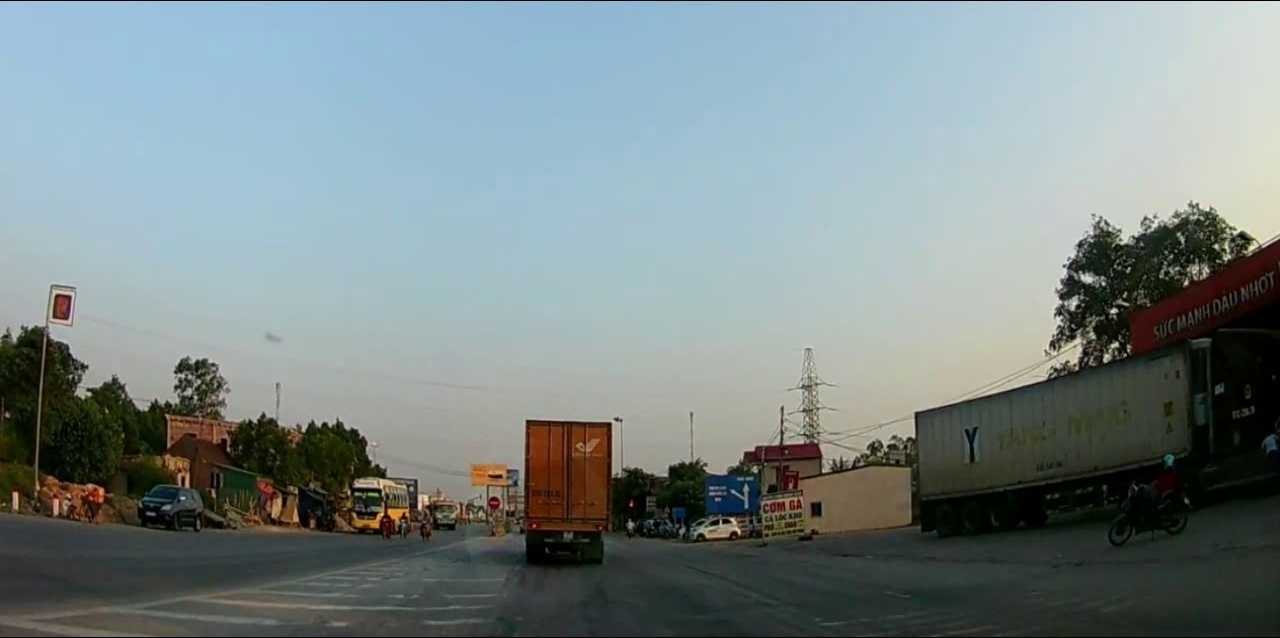Bien khac: (705, 475, 760, 513)
Cam di nguoc chieu: (483, 496, 503, 511)
